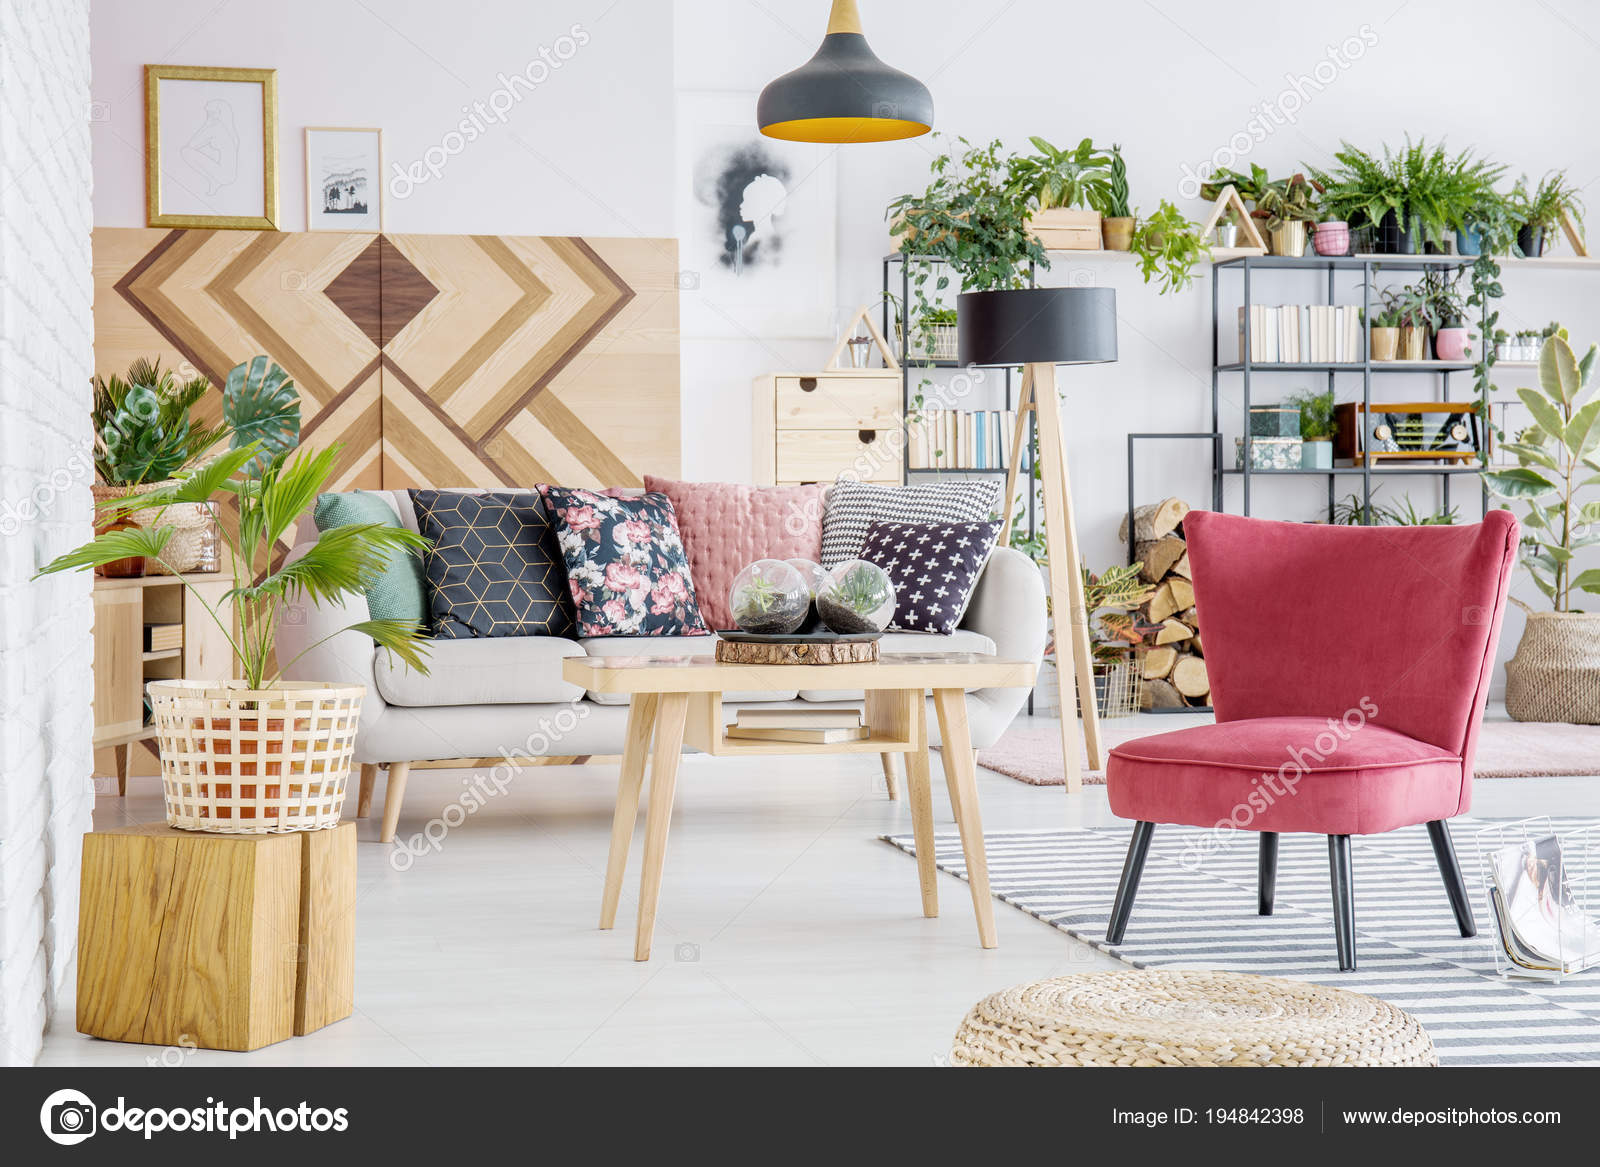coklat: (75, 824, 363, 1041)
hitam: (957, 288, 1120, 364)
pink: (1122, 513, 1487, 812), (1437, 327, 1470, 360)
